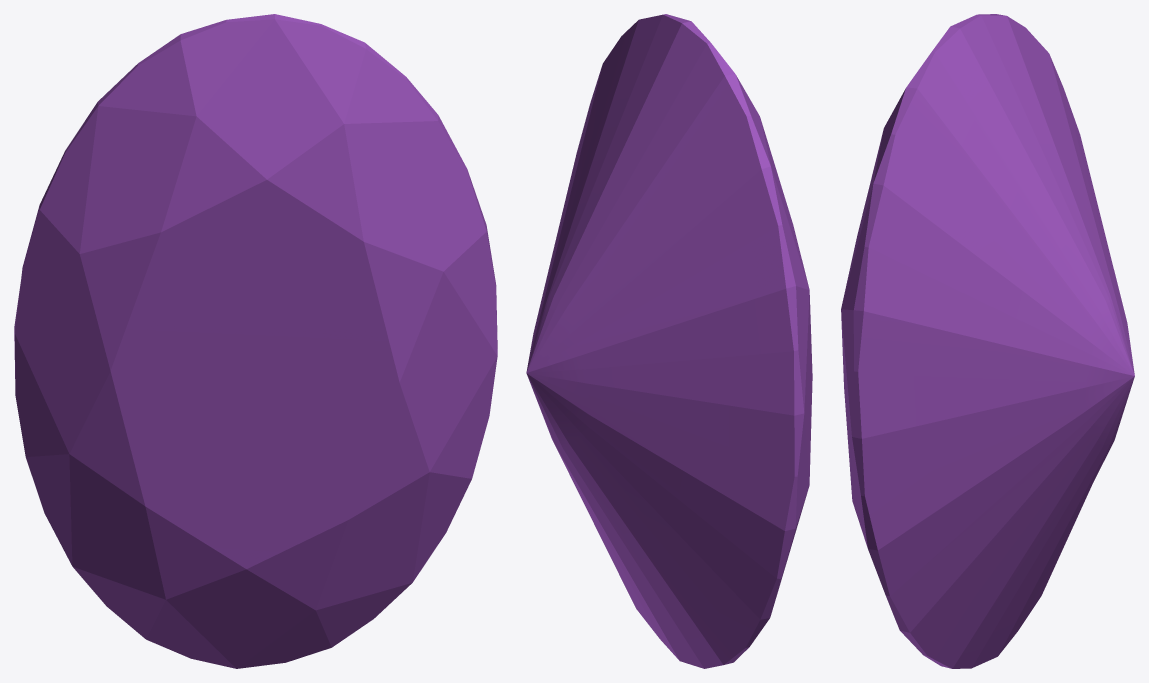
The model's file is TL2_8shapes_Oval_Classic_Stone.001 2.glb.
3 views of the same model, side by side, from view 1: azimuth 30°, elevation 25°; view 2: azimuth 150°, elevation 25°; view 3: azimuth 270°, elevation 25° (orthographic). The views are drawn at different scales.
Visible parts, largest first — view 1: TL2_8shapes_Oval_Classic_Stone.001; view 2: TL2_8shapes_Oval_Classic_Stone.001; view 3: TL2_8shapes_Oval_Classic_Stone.001.
Part boxes in pixels (x1,y1,x2,y2): TL2_8shapes_Oval_Classic_Stone.001: (14, 14, 497, 668); TL2_8shapes_Oval_Classic_Stone.001: (526, 14, 812, 668); TL2_8shapes_Oval_Classic_Stone.001: (841, 14, 1134, 668).
Size of the model in its own units: 0.382 by 0.6564 by 0.2746.
